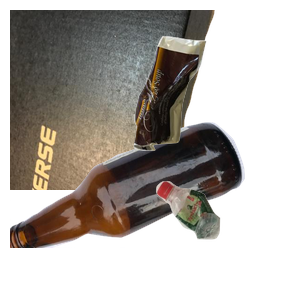cardboard: (10, 10, 217, 190)
glass: (10, 120, 247, 300)
plastic: (153, 178, 300, 300)
trash: (131, 34, 300, 177)
